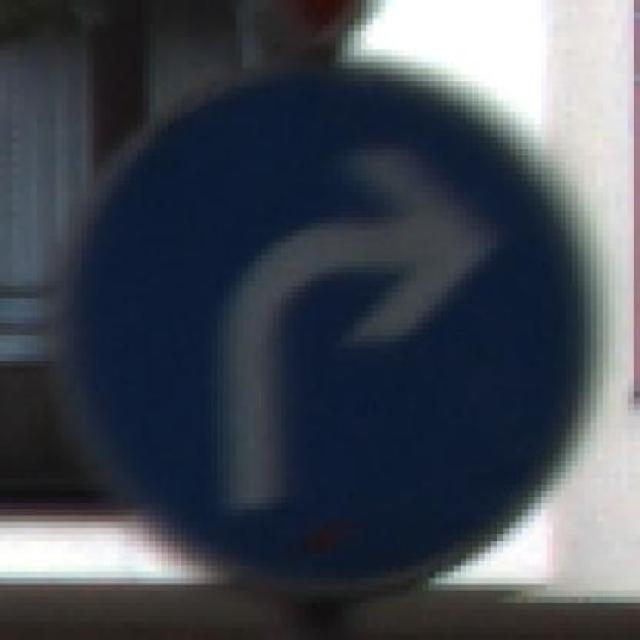Turn right ahead: (55, 62, 603, 609)
